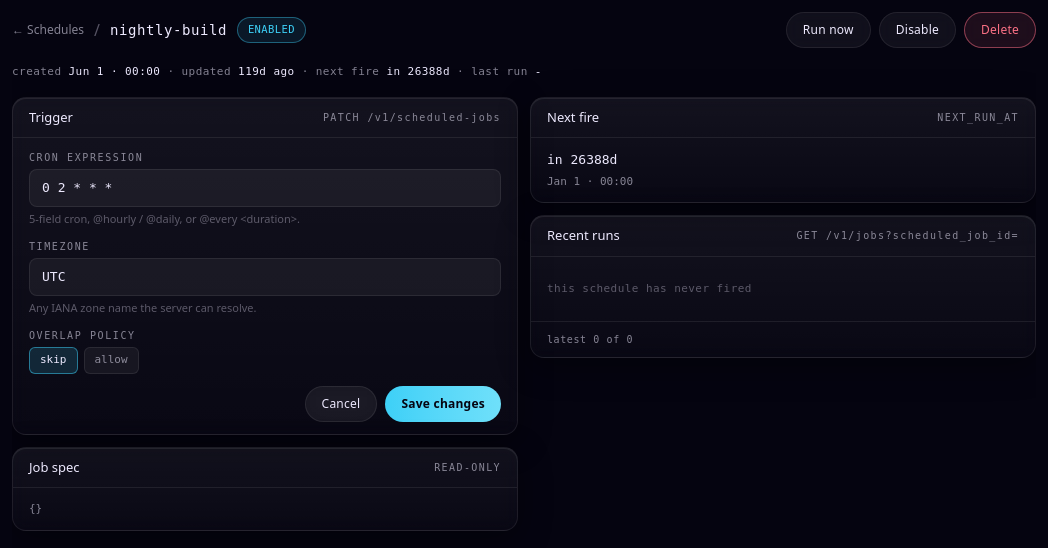
Test: Cancel restores the CURRENTLY loaded server value, not the value at mount
Replace the text in the field labelled "Cron expression" with "@every 45m" at (265, 188), box [29,169,501,206]
Wait 11000 ms
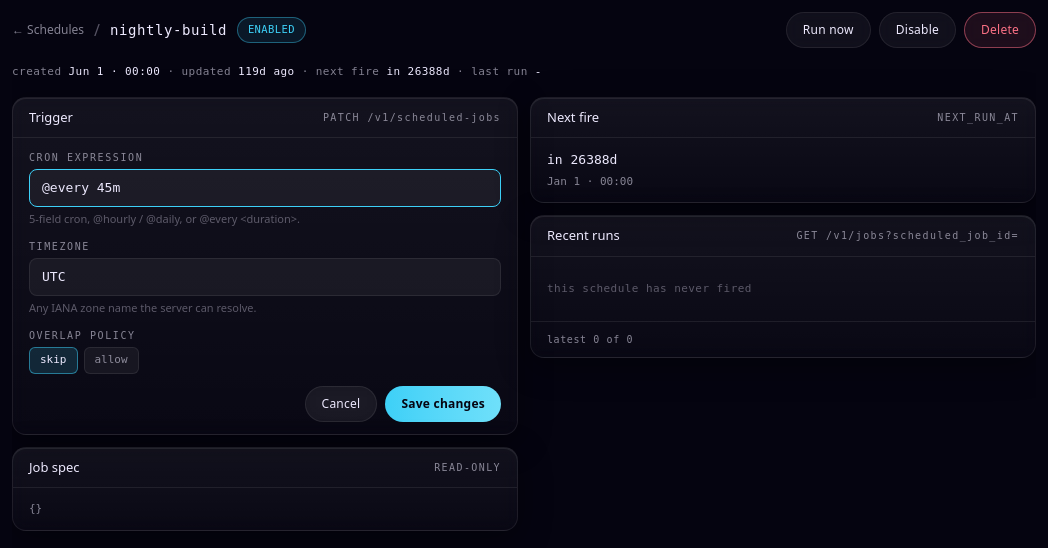
Click the button "Cancel" at (341, 404), box [305,386,377,422]
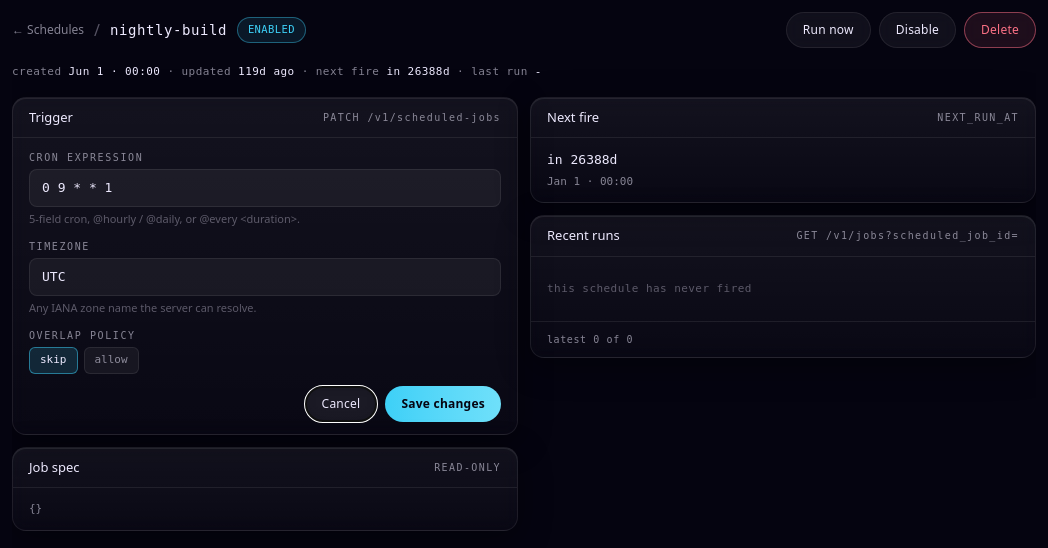
Now the field labelled "Cron expression" holds "0 9 * * 1", box [29,169,501,206]
